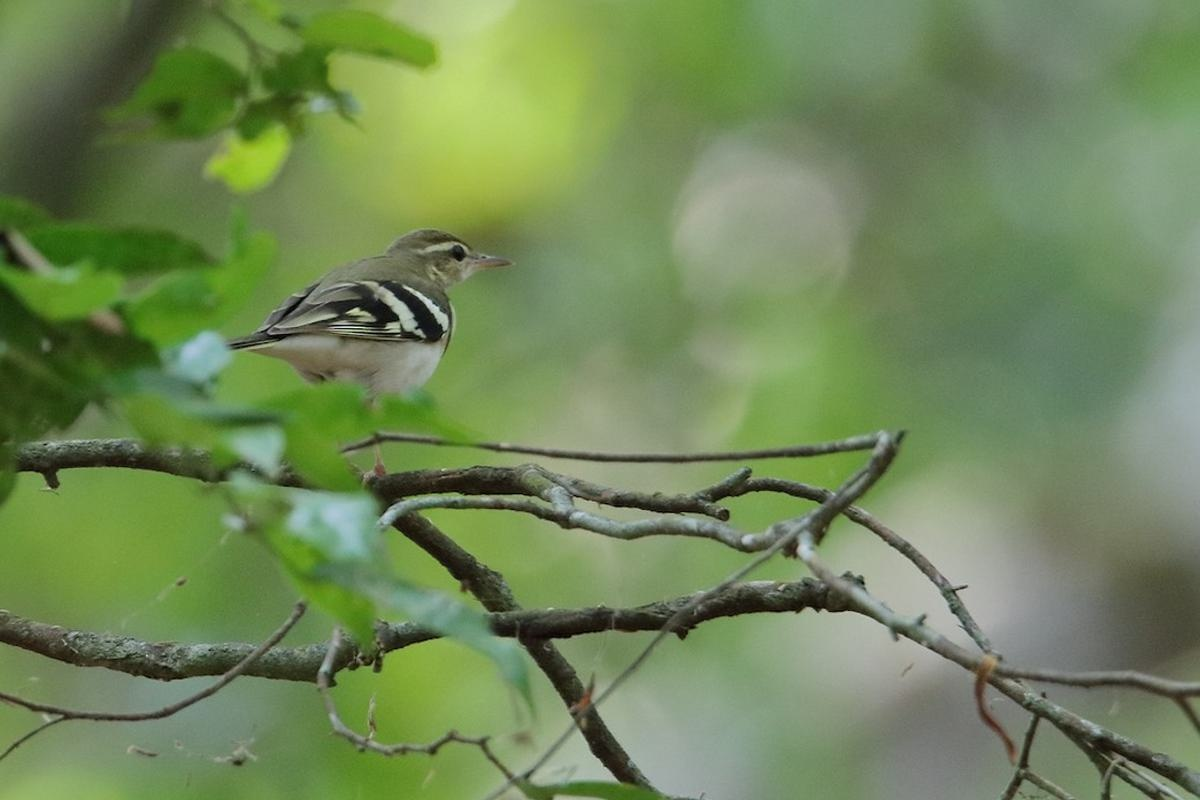wagtail: (228, 180, 510, 471)
